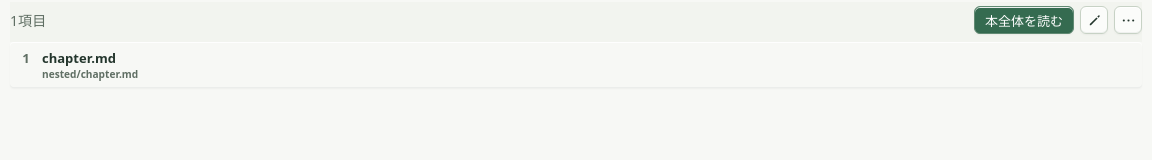
it: BookScopePanel › keeps settled book actions on one row and folds recipe actions into More
Expected: the button "章立てを書き出す" is not shown
Expected: the button "章立てを取り込む" is not shown
Click the button named "その他" at (1128, 20), box [1114,6,1142,34]
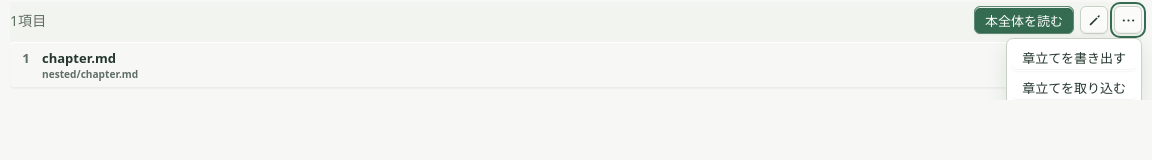
Press Escape in the button named "その他", box [1114,6,1142,34]
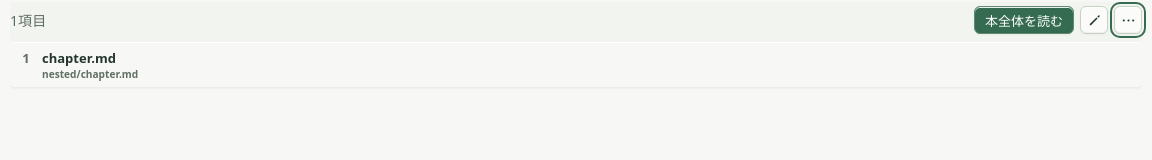
Expected: the menu item "章立てを書き出す" is gone
Click the button named "その他" at (1128, 20), box [1114,6,1142,34]
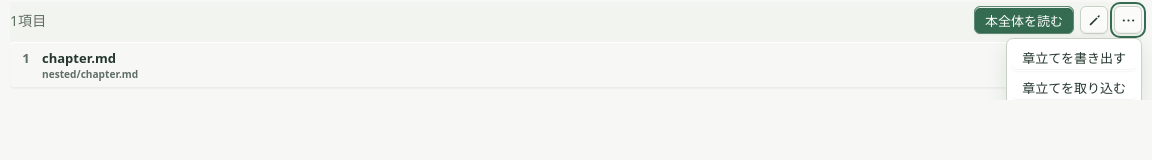
Click the menu item "章立てを書き出す" at (1074, 57), box [1011,43,1137,71]
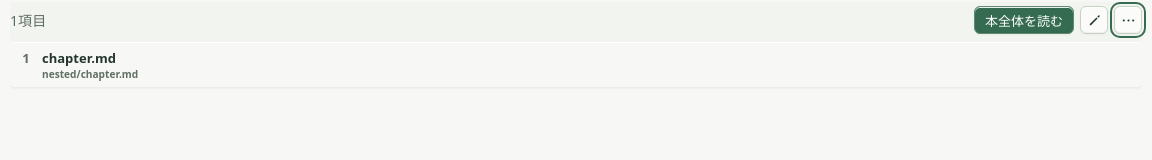
Expected: the menu item "章立てを取り込む" is gone
